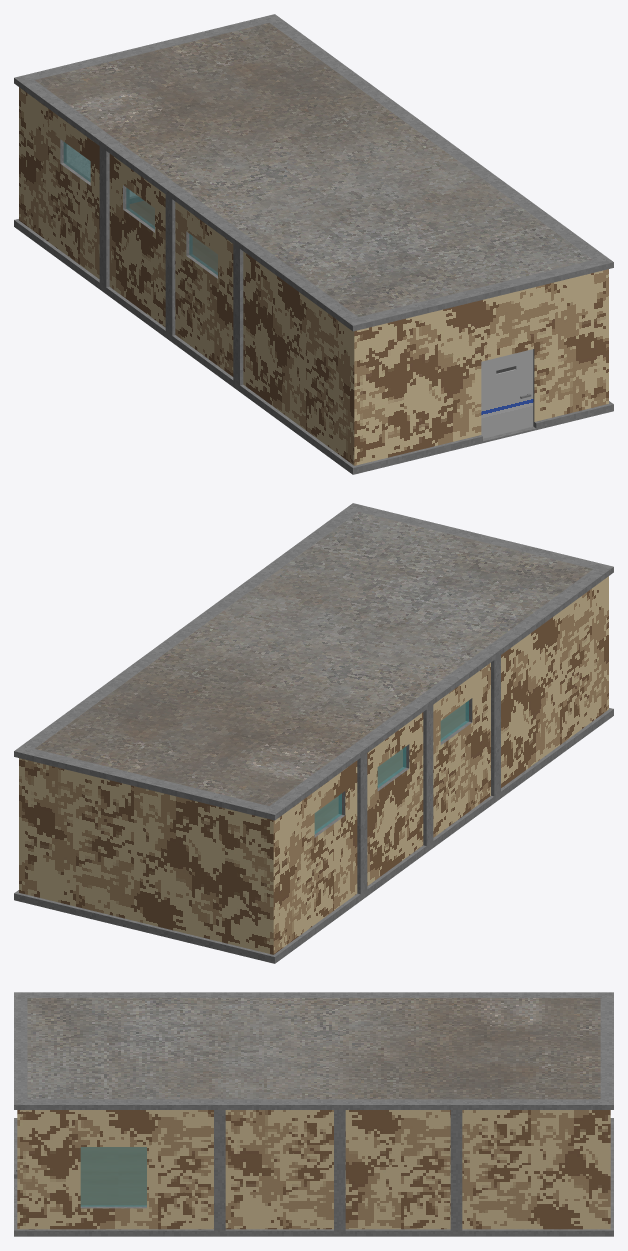
File: armor-house.glb
3 renders of one model, top to bottom at view 1: azimuth 30°, elevation 25°; view 2: azimuth 150°, elevation 25°; view 3: azimuth 270°, elevation 25°, orthographic. The views are drawn at different scales.
Visible parts, largest first — view 1: Walls, Door; view 2: Walls; view 3: Walls.
Boxes of the visible parts, bbox=[...] form: Walls: bbox=[14, 14, 613, 474]; Door: bbox=[481, 349, 533, 438]; Walls: bbox=[14, 503, 613, 963]; Walls: bbox=[14, 992, 613, 1236].
Size of the model in its own units: 1.6 by 0.8731 by 3.6.
5 materials, 4 textured.
